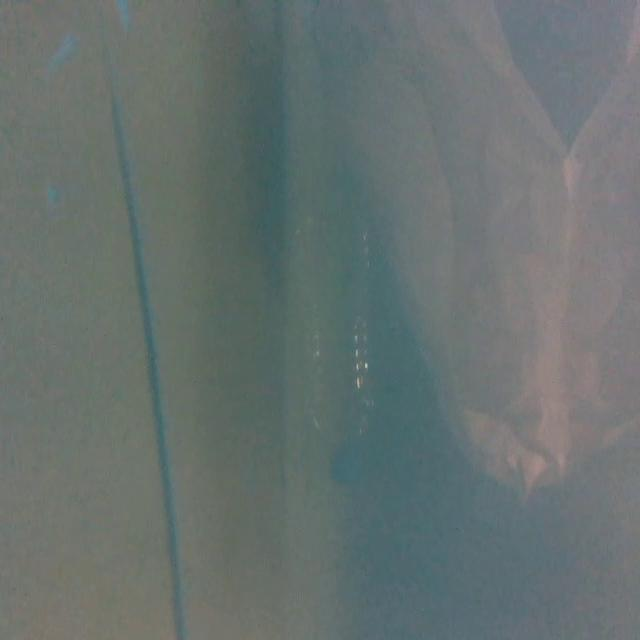plastic bags: (336, 0, 603, 544)
plastic bottle: (284, 213, 382, 501)
